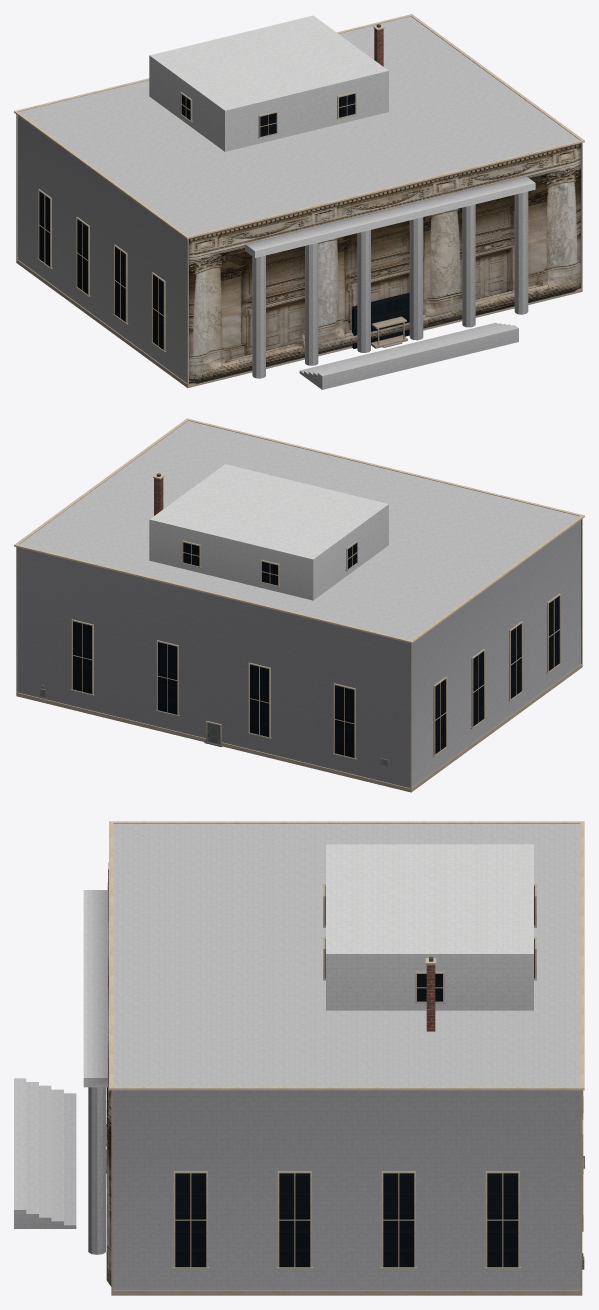
The model's file is opera-house_lod0.gltf.
3 views of the same model, one above another, from view 1: azimuth 30°, elevation 25°; view 2: azimuth 150°, elevation 25°; view 3: azimuth 270°, elevation 25° (orthographic). The views are drawn at different scales.
Visible parts, largest first — view 1: opera-house_tier0, opera-house_front, opera-house_tier1, opera-house_colonnade, opera-house__v4_stone_detail, opera-house_stairs, opera-house_fen_07-glass-curtain-blue_1_t, opera-house_fen_04-limestone_0, opera-house__entry_doors; view 2: opera-house_tier0, opera-house_tier1, opera-house_fen_07-glass-curtain-blue_1_t, opera-house__v4_stone_detail, opera-house_fen_04-limestone_0; view 3: opera-house_tier0, opera-house_tier1, opera-house_fen_07-glass-curtain-blue_1_t, opera-house__v4_stone_detail, opera-house_stairs, opera-house_colonnade, opera-house_fen_04-limestone_0, opera-house_front, opera-house__v4_brick_detail.
Boxes of the visible parts, left/top/right/bottom form: opera-house_tier0: left=18, top=16, right=579, bottom=382; opera-house_front: left=189, top=143, right=580, bottom=383; opera-house_tier1: left=149, top=15, right=388, bottom=151; opera-house_colonnade: left=245, top=176, right=535, bottom=378; opera-house__v4_stone_detail: left=14, top=14, right=584, bottom=388; opera-house_stairs: left=299, top=322, right=518, bottom=389; opera-house_fen_07-glass-curtain-blue_1_t: left=39, top=94, right=354, bottom=349; opera-house_fen_04-limestone_0: left=37, top=92, right=357, bottom=352; opera-house__entry_doors: left=352, top=292, right=409, bottom=348; opera-house_tier0: left=18, top=421, right=580, bottom=787; opera-house_tier1: left=149, top=464, right=388, bottom=600; opera-house_fen_07-glass-curtain-blue_1_t: left=73, top=542, right=559, bottom=757; opera-house__v4_stone_detail: left=14, top=418, right=584, bottom=792; opera-house_fen_04-limestone_0: left=70, top=540, right=561, bottom=759; opera-house_tier0: left=113, top=824, right=580, bottom=1289; opera-house_tier1: left=326, top=844, right=533, bottom=1010; opera-house_fen_07-glass-curtain-blue_1_t: left=175, top=885, right=534, bottom=1267; opera-house__v4_stone_detail: left=106, top=821, right=584, bottom=1295; opera-house_stairs: left=14, top=1078, right=76, bottom=1228; opera-house_colonnade: left=83, top=890, right=108, bottom=1254; opera-house_fen_04-limestone_0: left=172, top=884, right=583, bottom=1268; opera-house_front: left=106, top=862, right=111, bottom=1286; opera-house__v4_brick_detail: left=426, top=964, right=435, bottom=1031.
Bounding box in the file's own units: 60.72 × 29.61 × 54.9.
